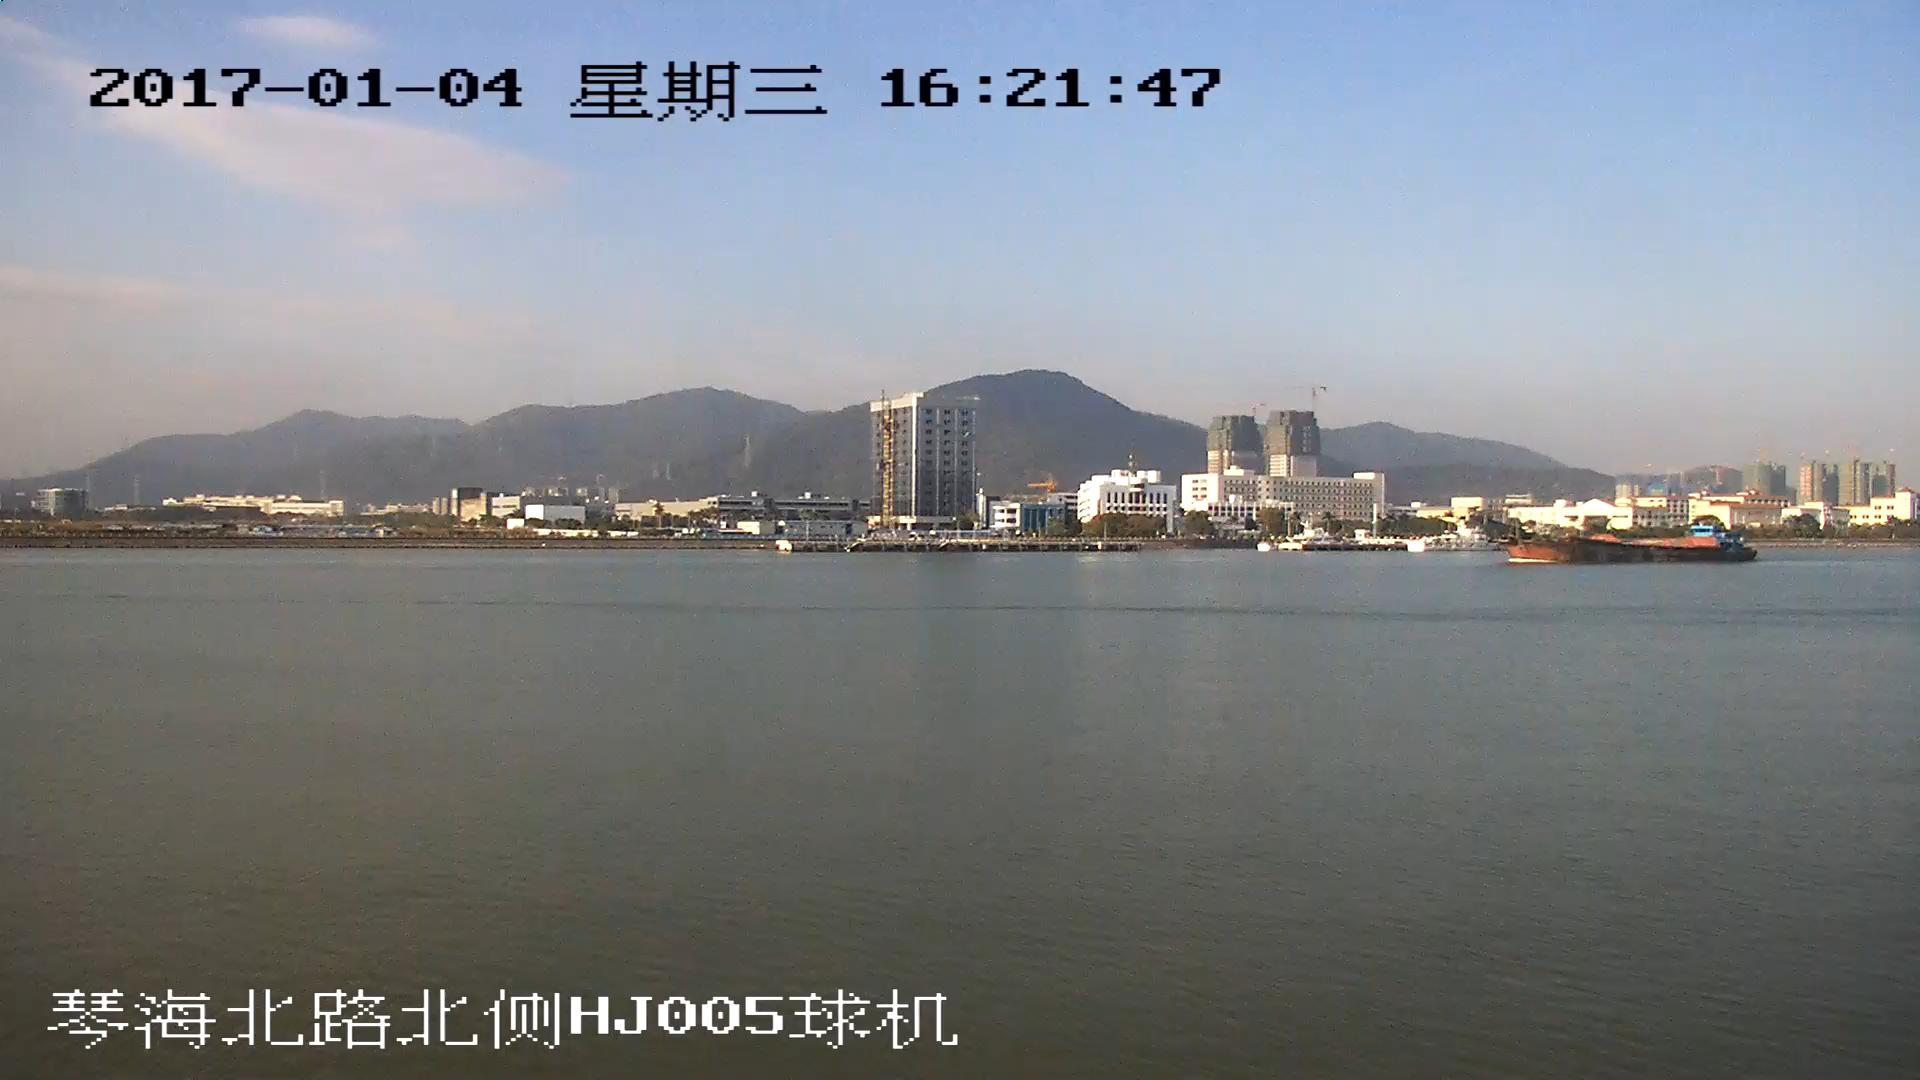bulk cargo carrier: (1479, 513, 1752, 562)
